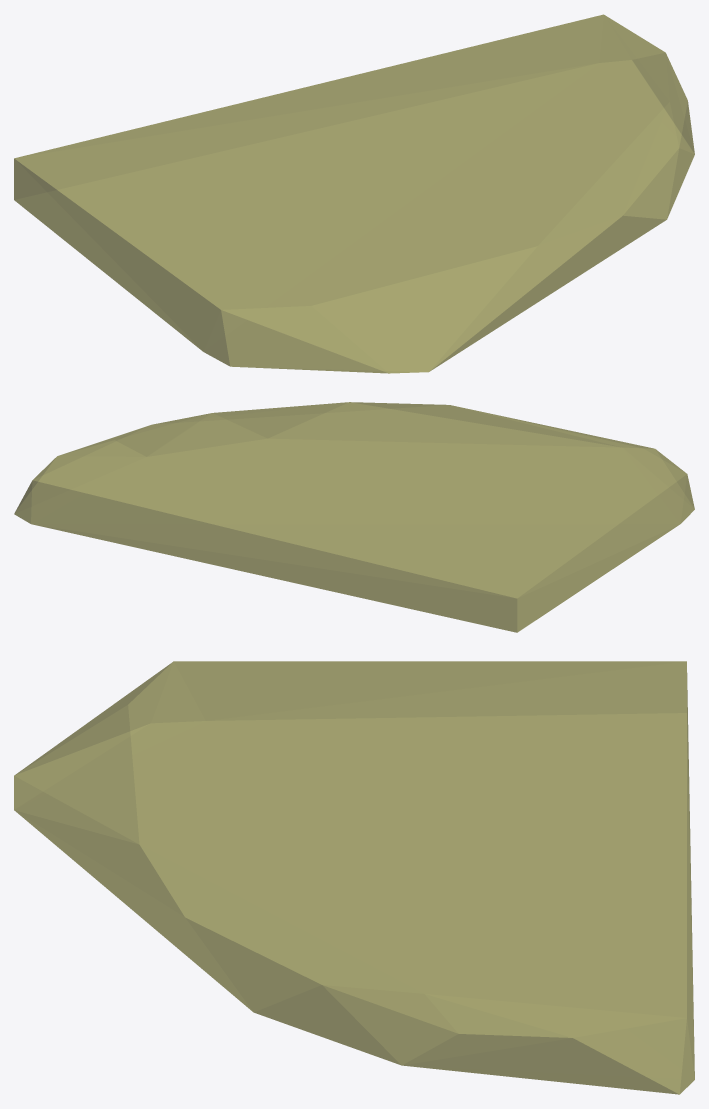
The picture shows the model from 3 angles, top to bottom: view 1: azimuth 30°, elevation 25°; view 2: azimuth 150°, elevation 25°; view 3: azimuth 270°, elevation 25°; orthographic projection. The views are drawn at different scales.
Parts seen in each view (by area): view 1: Shape_IndexedFaceSet.006_Shape_IndexedFaceSet.3663; view 2: Shape_IndexedFaceSet.006_Shape_IndexedFaceSet.3663; view 3: Shape_IndexedFaceSet.006_Shape_IndexedFaceSet.3663.
Part boxes in pixels (x1,y1,x2,y2): Shape_IndexedFaceSet.006_Shape_IndexedFaceSet.3663: [14, 14, 694, 373]; Shape_IndexedFaceSet.006_Shape_IndexedFaceSet.3663: [14, 402, 694, 632]; Shape_IndexedFaceSet.006_Shape_IndexedFaceSet.3663: [14, 661, 694, 1094].
Bounding box in the file's own units: 0.2177 × 0.017 × 0.1672.
